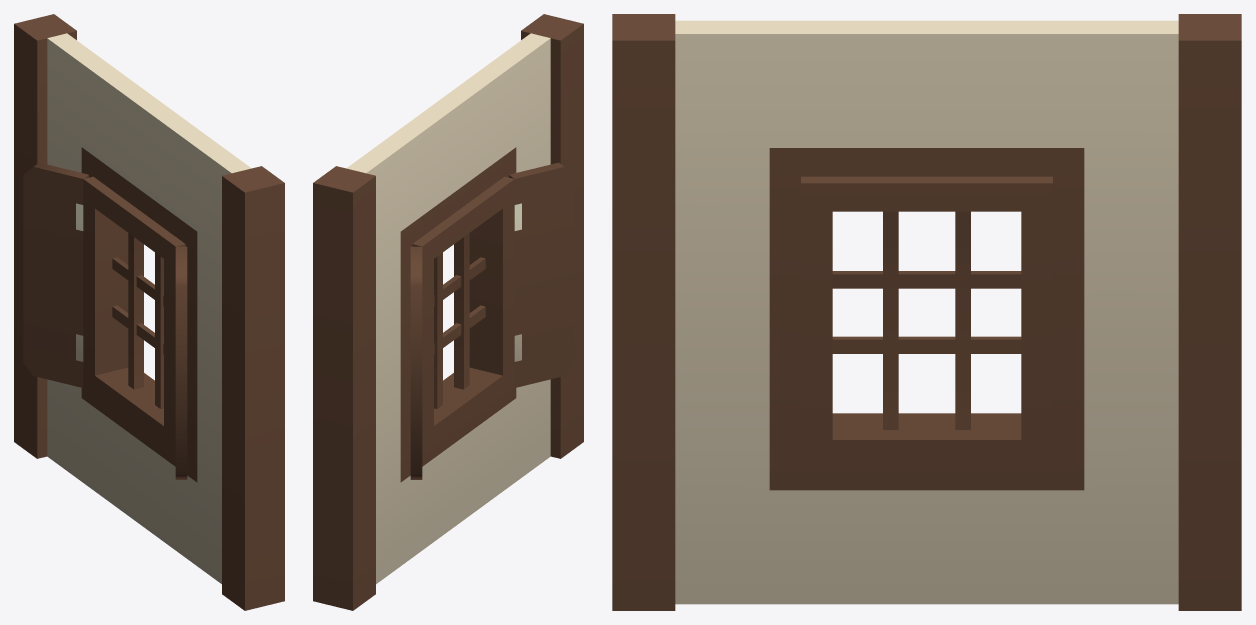
The model's file is wall-window-shutters.glb.
3 views of the same model, side by side, from view 1: azimuth 30°, elevation 25°; view 2: azimuth 150°, elevation 25°; view 3: azimuth 270°, elevation 25° (orthographic). The views are drawn at different scales.
Visible parts, largest first — view 1: wall-window-shutters; view 2: wall-window-shutters; view 3: wall-window-shutters.
Part boxes in pixels (x1,y1,x2,y2): wall-window-shutters: [14, 14, 284, 610]; wall-window-shutters: [313, 14, 583, 610]; wall-window-shutters: [612, 14, 1241, 610].
Size of the model in its own units: 0.1749 by 1 by 1.
Materials: 1 (1 with a texture image).
